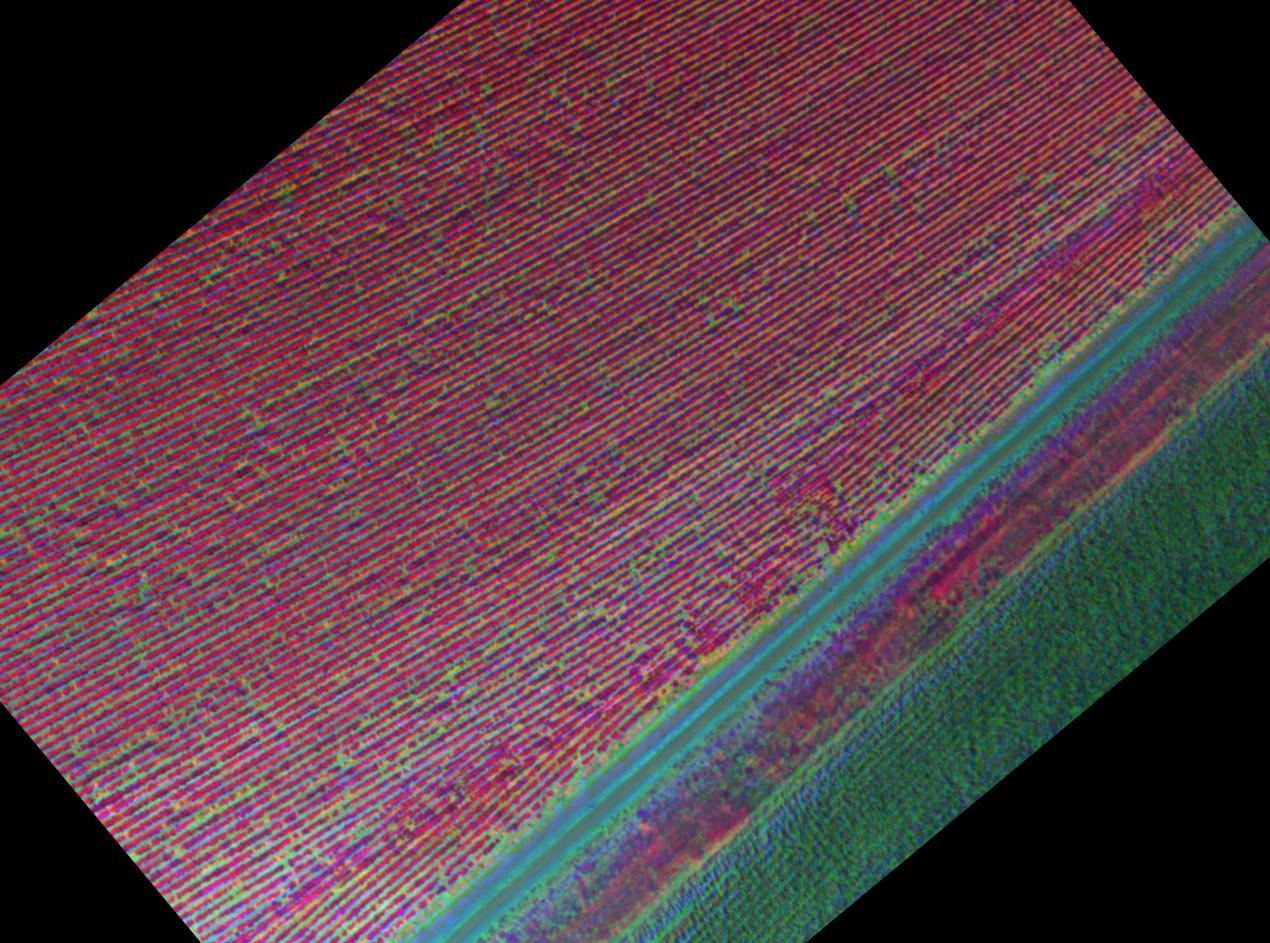dc: (824, 560, 828, 564), (711, 322, 714, 326), (876, 504, 879, 508), (1046, 175, 1049, 178), (142, 589, 145, 592)
